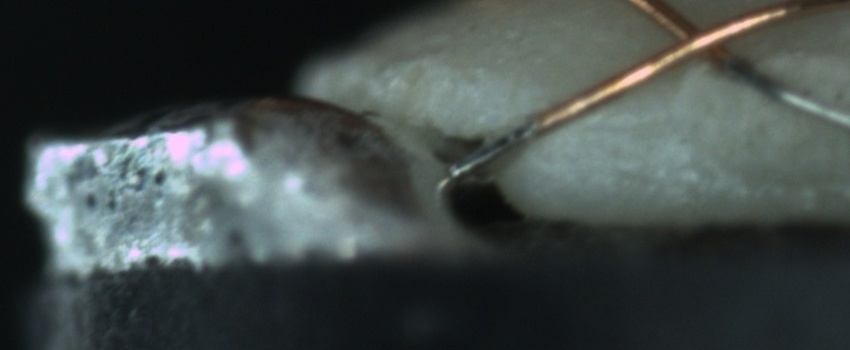CL: (651, 7, 752, 76)
DL: (551, 99, 673, 152)
TS: (446, 119, 539, 182)
TTCW: (449, 110, 549, 179)
